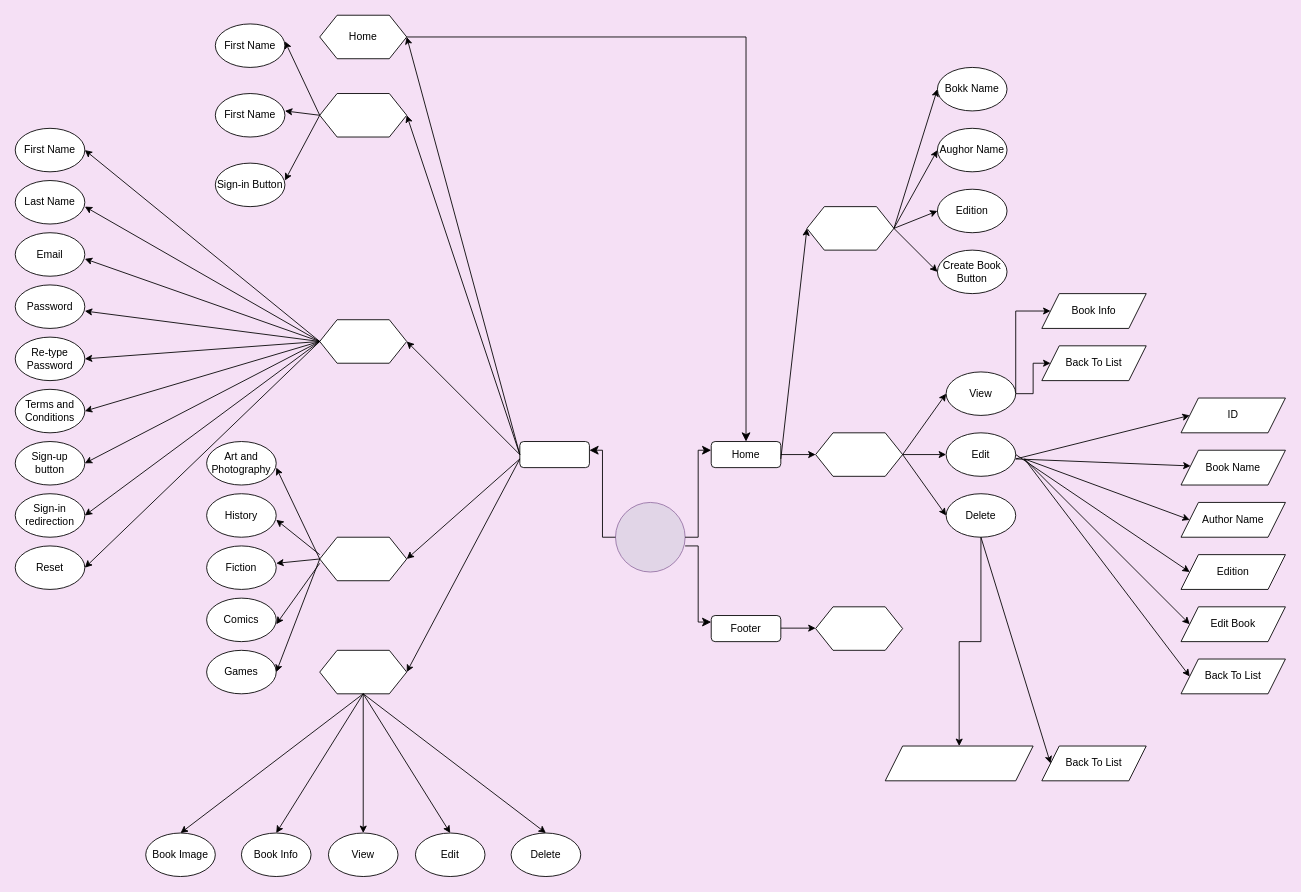
Image size: 1301x892. Some labels were removed from this diagram. Each missing label, with the centre of its shape:
"All Books" goes at (859,454).
"Create New Books" goes at (850,228).
"Delete Book Function" goes at (958,763).
"Genre" goes at (363,558).
"Header" goes at (554,454).
"Project name and year" goes at (859,628).
"Search" goes at (363,671).
"Sign-in" goes at (363,115).
"Sign-up" goes at (363,341).
"Webiste" goes at (650,537).
